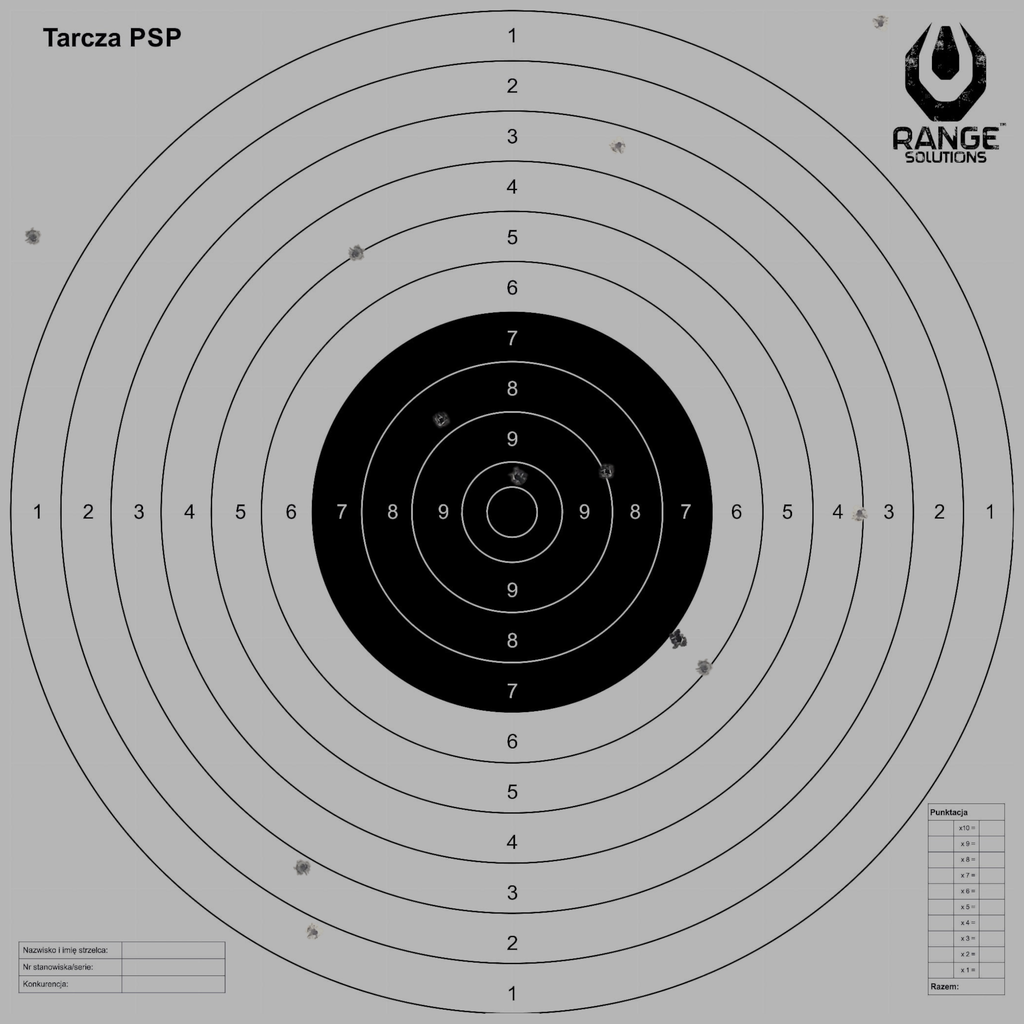0 punktow: (24, 228, 42, 247)
1 punkt: (305, 923, 323, 942)
10 punktow: (508, 468, 527, 486)
2 punkty: (294, 858, 313, 877)
3 punkty: (609, 136, 628, 155)
4 punkty: (850, 504, 869, 523)
5 punktow: (347, 244, 365, 263)
6 punktow: (695, 659, 713, 678)
7 punktow: (669, 629, 688, 648)
8 punktow: (432, 411, 451, 430)
9 punktow: (598, 463, 617, 481)
